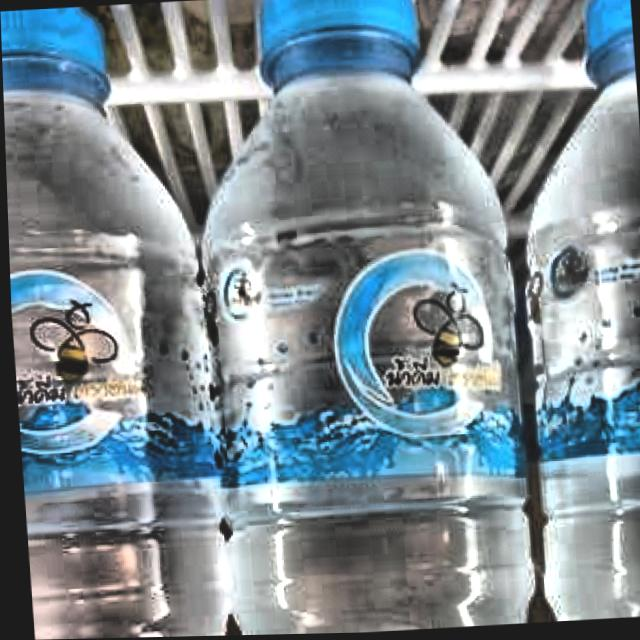Bottles: (151, 0, 561, 637), (0, 0, 250, 640), (476, 0, 640, 625)
